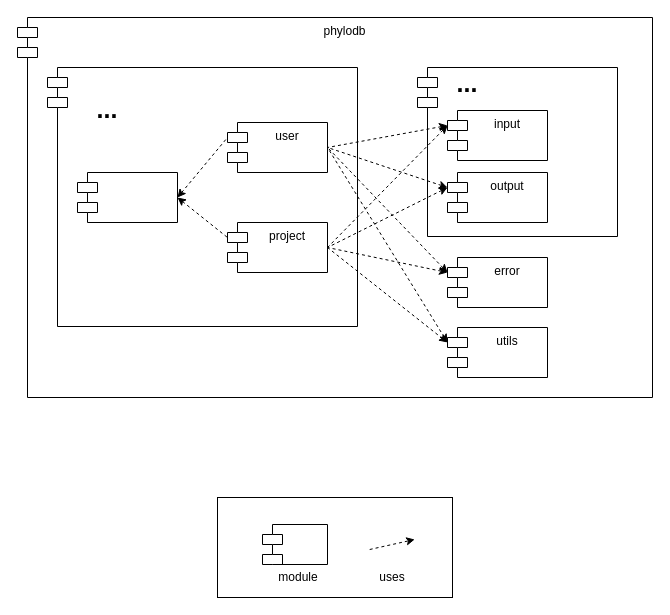
Some shapes in this 670 by 615 pixel diagram are drawn without their labels. Here are the shapes that lost their labels. From the top down, the box of each, then its label:
(416, 66, 618, 236): io
(76, 172, 178, 222): authorization
(46, 66, 358, 326): security
(216, 496, 452, 598): Keys
